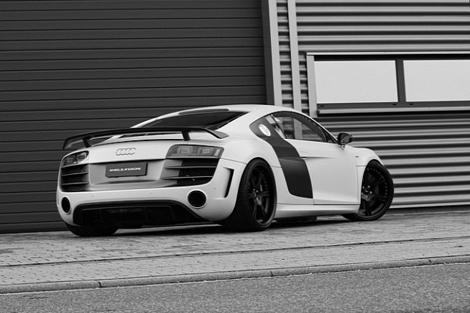car: (53, 102, 398, 234)
